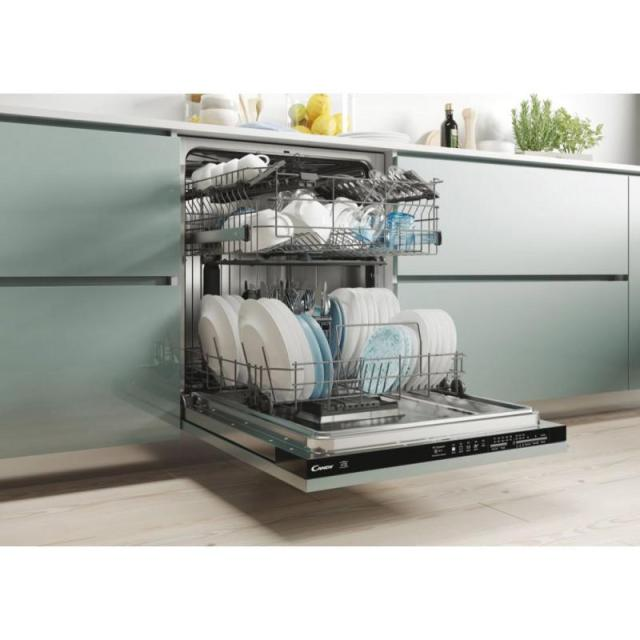dishwasher: (175, 128, 569, 495)
